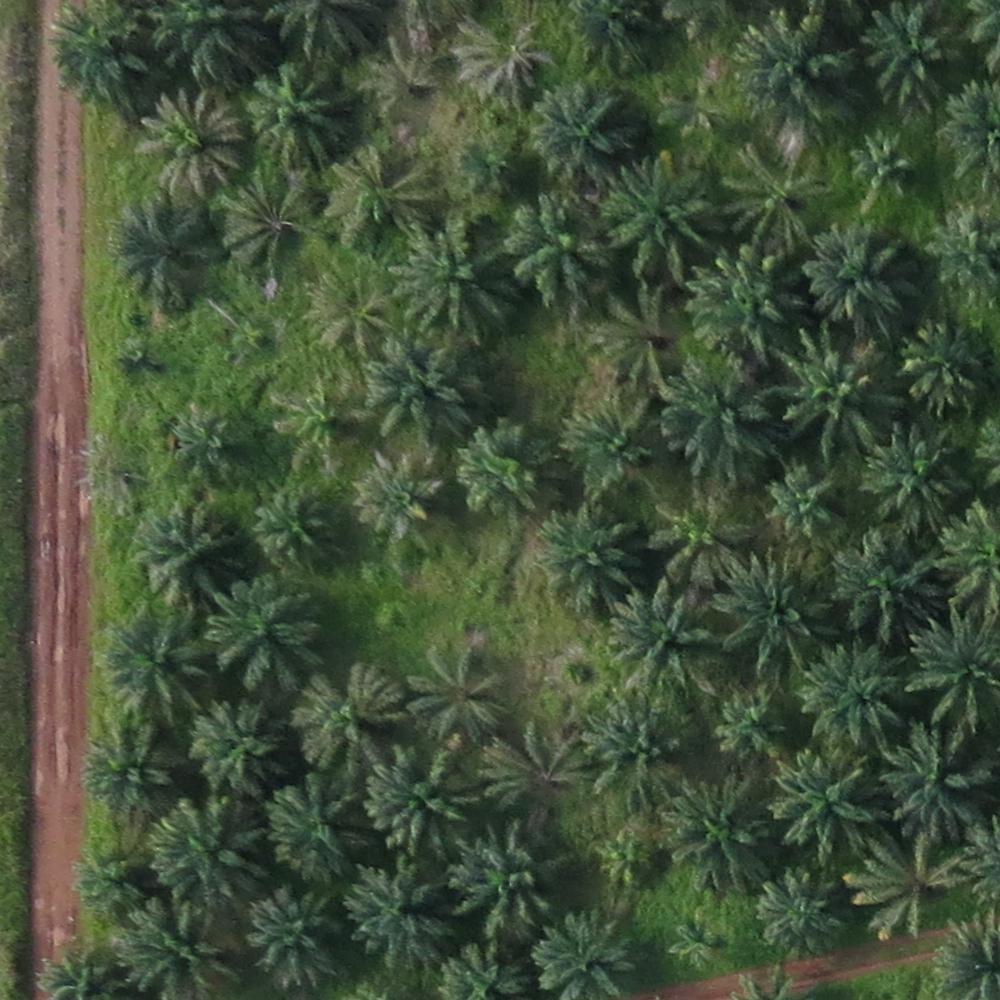Palm: (660, 354, 785, 477), (712, 556, 838, 671), (779, 326, 891, 449), (394, 218, 506, 335), (878, 721, 995, 832), (738, 15, 851, 129), (208, 576, 321, 689), (104, 201, 214, 317), (360, 334, 477, 443), (763, 748, 878, 856), (606, 582, 712, 696), (605, 157, 708, 271), (834, 531, 947, 634), (368, 746, 477, 852), (804, 225, 915, 329), (152, 799, 267, 899), (289, 669, 397, 775), (345, 857, 453, 963), (532, 78, 641, 182), (573, 684, 682, 788), (240, 880, 344, 988), (720, 143, 824, 249), (501, 198, 608, 301), (446, 828, 554, 930), (799, 645, 902, 751), (265, 776, 367, 883), (849, 836, 958, 936), (106, 609, 208, 715), (534, 504, 638, 607), (689, 256, 794, 358), (650, 489, 756, 588), (905, 607, 1000, 717), (136, 502, 237, 605), (863, 428, 967, 528), (123, 901, 231, 997), (661, 780, 767, 877), (139, 96, 239, 197), (191, 700, 297, 795), (50, 1, 149, 102), (249, 68, 352, 164), (332, 147, 435, 243), (861, 9, 961, 102), (753, 867, 853, 957), (560, 397, 656, 489), (533, 910, 635, 996), (85, 719, 175, 815), (456, 423, 555, 509), (899, 322, 988, 415), (760, 463, 851, 549), (351, 455, 441, 534), (250, 490, 335, 569), (73, 838, 149, 925), (715, 688, 790, 766)
